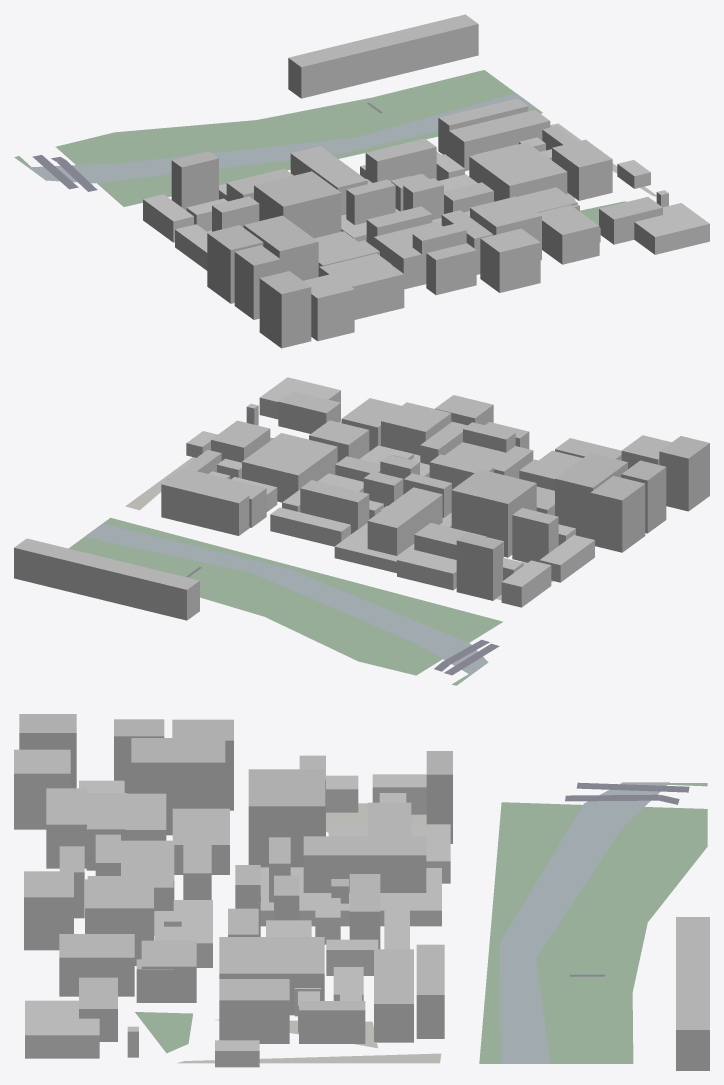
File: 126_91_mid.glb
The picture shows the model from 3 angles, top to bottom: view 1: azimuth 30°, elevation 25°; view 2: azimuth 150°, elevation 25°; view 3: azimuth 270°, elevation 25°; orthographic projection. The views are drawn at different scales.
Bounding box in the file's own units: 512 × 61 × 522.
